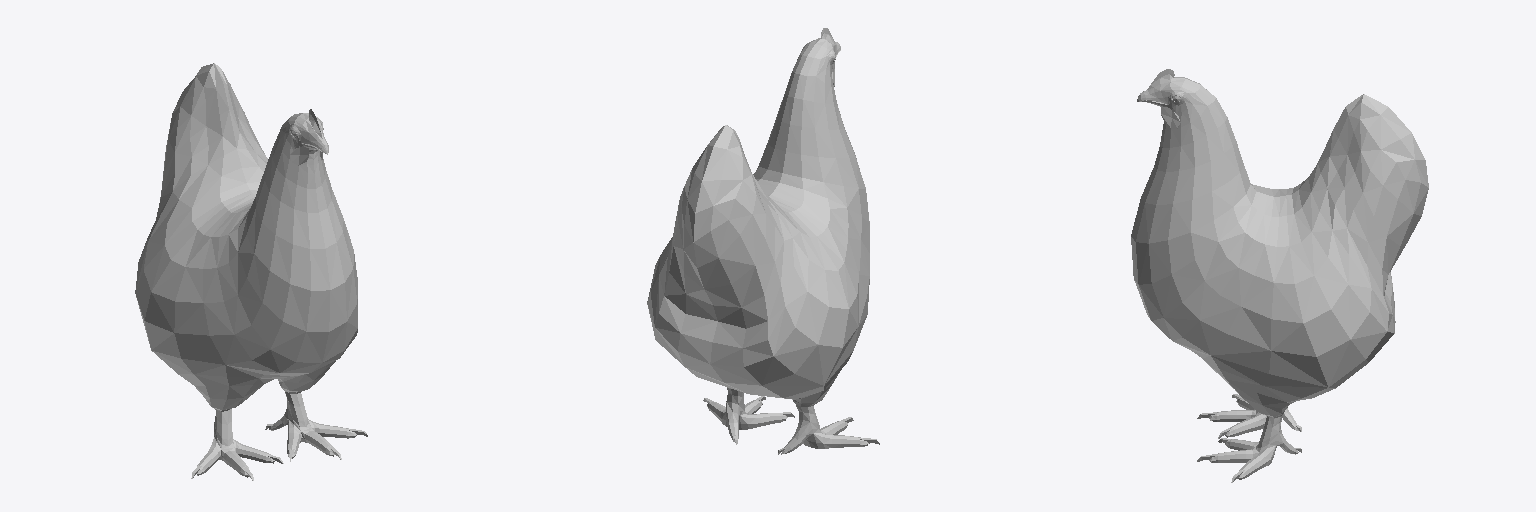
File: chicken.obj
3 views of the same model, side by side, from view 1: azimuth 30°, elevation 25°; view 2: azimuth 150°, elevation 25°; view 3: azimuth 270°, elevation 25° (orthographic).
Visible parts, largest first — view 1: Chicken_Cylinder.001; view 2: Chicken_Cylinder.001; view 3: Chicken_Cylinder.001.
Part boxes in pixels (bbox=[...]): Chicken_Cylinder.001: bbox=[135, 63, 367, 480]; Chicken_Cylinder.001: bbox=[647, 28, 879, 454]; Chicken_Cylinder.001: bbox=[1131, 69, 1428, 482].
Size of the model in its own units: 6.58 by 12.66 by 9.12.